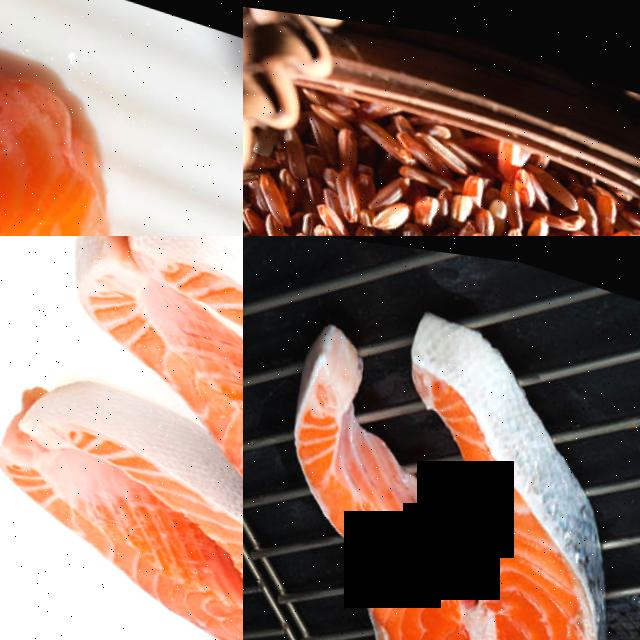red rice: (243, 44, 640, 236)
salmon: (342, 480, 630, 640), (0, 0, 183, 236), (92, 477, 243, 640)
